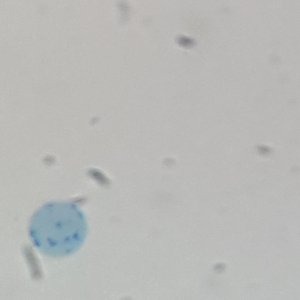aggregate reticulocyte: (25, 198, 88, 258)
